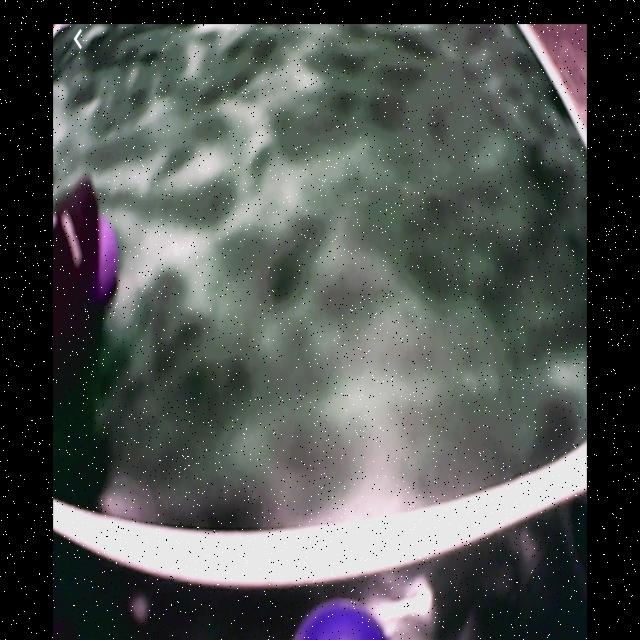ball: (294, 600, 388, 640), (100, 218, 117, 299)
